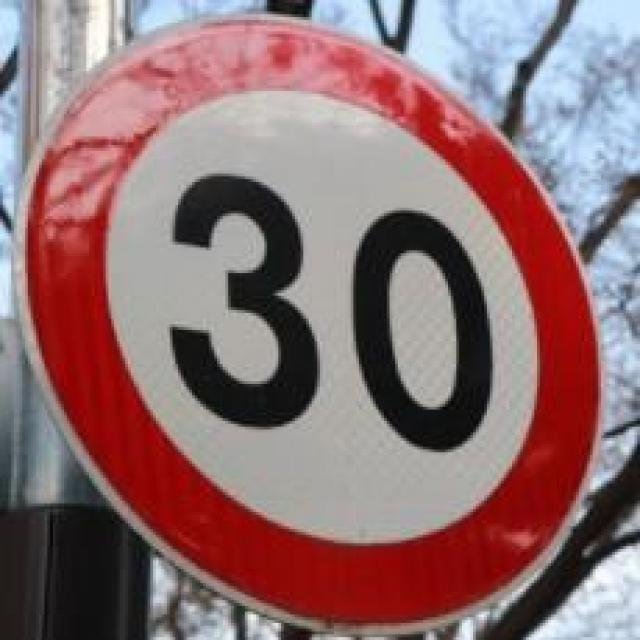Ograniczenie predkosci do 30: (14, 14, 607, 626)
